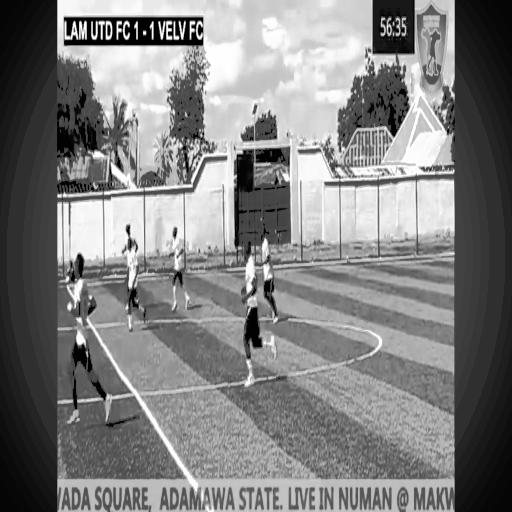team1: (60, 235, 117, 438), (259, 219, 280, 326), (119, 208, 139, 252)
team2: (239, 237, 277, 394), (123, 235, 149, 331), (169, 219, 193, 314)
